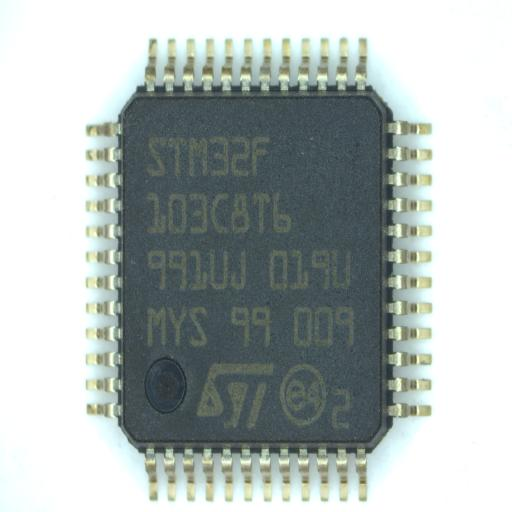pins: (199, 36, 217, 92), (276, 36, 294, 92), (180, 449, 198, 504), (199, 449, 217, 504), (384, 118, 436, 137), (180, 37, 198, 91), (384, 221, 435, 240), (384, 144, 435, 163), (276, 448, 293, 504), (384, 196, 434, 215), (384, 376, 436, 394), (384, 170, 436, 188), (257, 36, 274, 91), (384, 250, 433, 269), (143, 35, 159, 92), (143, 448, 159, 504), (238, 36, 254, 92), (315, 36, 331, 92), (219, 448, 235, 504), (238, 449, 254, 504), (353, 448, 369, 503), (296, 36, 312, 91), (296, 449, 312, 504), (219, 37, 235, 91), (385, 299, 433, 317), (163, 448, 178, 505), (385, 402, 435, 419), (384, 325, 434, 342), (384, 275, 434, 292), (316, 448, 331, 504), (163, 36, 178, 92), (384, 352, 436, 368), (354, 36, 369, 91), (335, 36, 350, 91), (335, 449, 350, 504), (258, 449, 273, 504), (83, 119, 121, 140), (83, 298, 122, 317), (83, 196, 122, 215), (83, 222, 121, 241), (83, 145, 121, 164), (83, 400, 122, 418), (82, 324, 121, 342), (82, 248, 121, 266), (83, 376, 121, 394), (83, 349, 121, 367), (83, 273, 121, 291), (83, 171, 121, 189)
